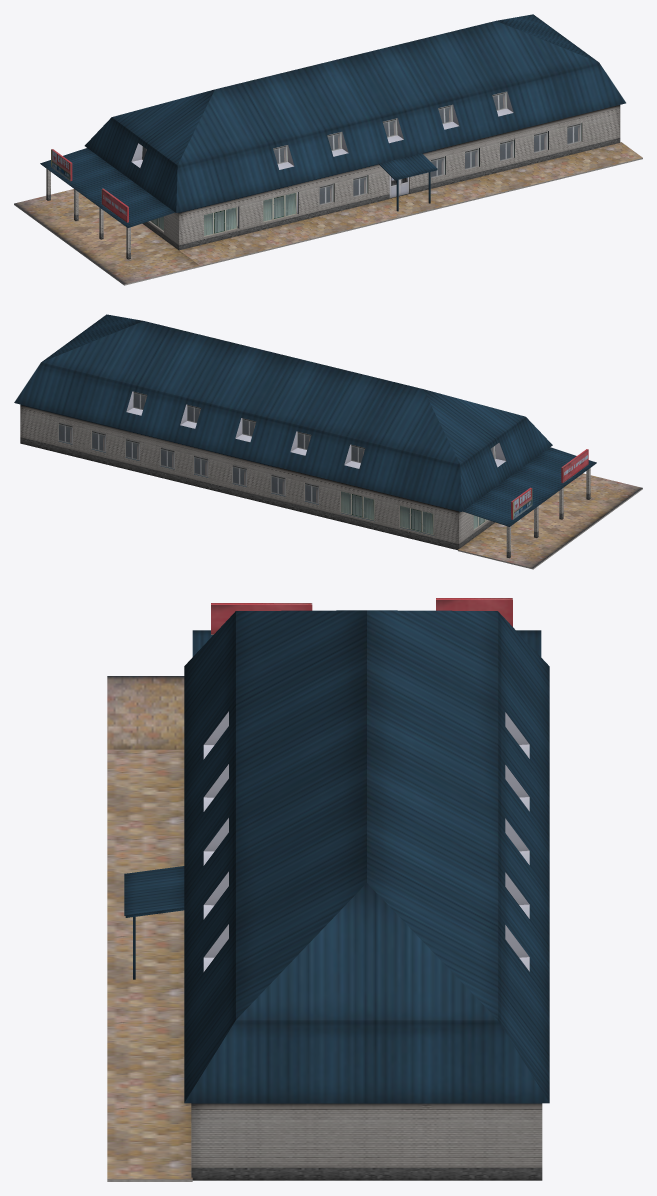
Rendered from RoadsideMotel.fbx.
The picture shows the model from 3 angles, top to bottom: view 1: azimuth 30°, elevation 25°; view 2: azimuth 150°, elevation 25°; view 3: azimuth 270°, elevation 25°; orthographic projection. The views are drawn at different scales.
Parts seen in each view (by area): view 1: RoadsideMotel; view 2: RoadsideMotel; view 3: RoadsideMotel.
Part boxes in pixels (x1,y1,x2,y2): RoadsideMotel: (14,14,642,285); RoadsideMotel: (14,314,642,569); RoadsideMotel: (107,598,549,1181).
Size of the model in its own units: 250 by 50.66 by 92.31.
